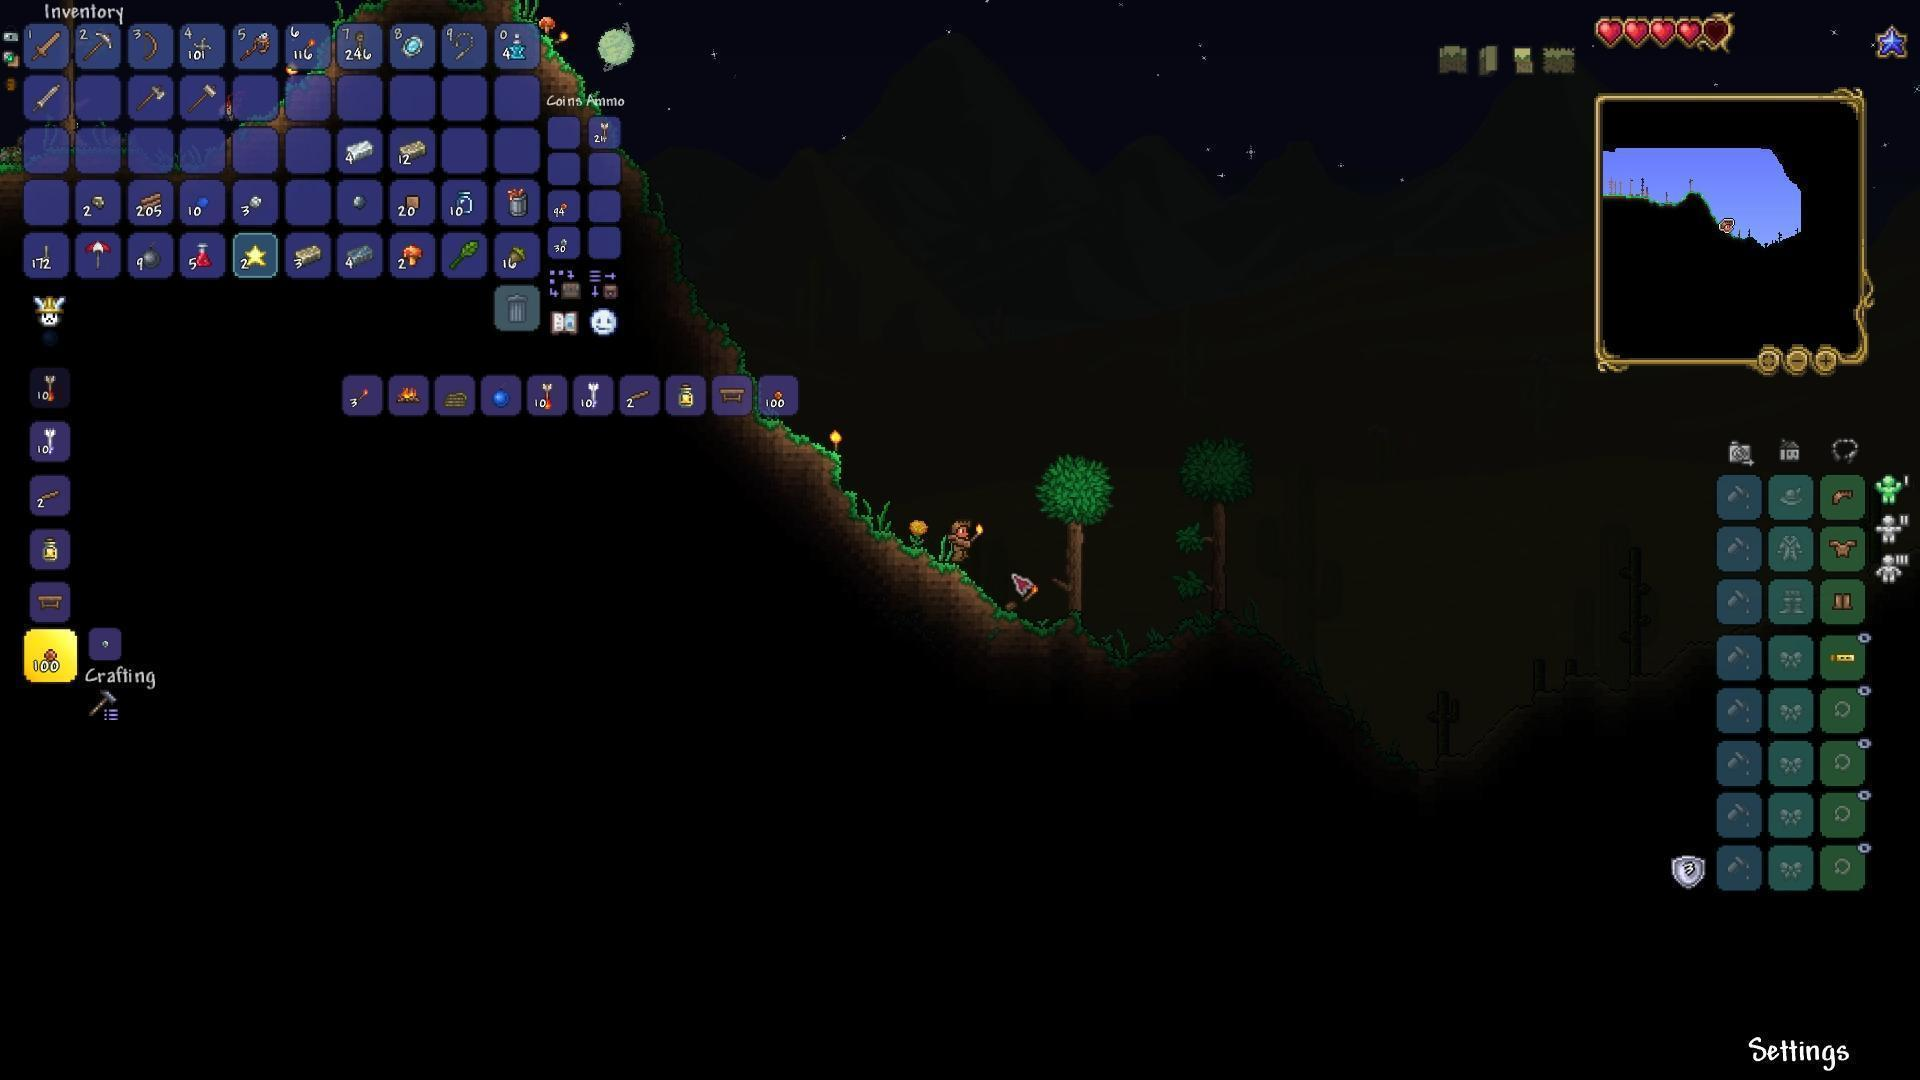arrow: (41, 371, 58, 402), (42, 425, 58, 454), (585, 378, 600, 407), (541, 378, 554, 407)
bomb: (140, 244, 162, 269)
bow: (140, 26, 160, 65)
breastplate: (1830, 539, 1857, 558)
gel: (193, 196, 214, 208)
knife: (40, 243, 50, 266)
pickaxe: (82, 29, 115, 63)
platform: (33, 484, 65, 501), (629, 386, 650, 402)
shuriken: (194, 33, 211, 55)
wood: (137, 190, 165, 210)
workbench: (32, 589, 65, 612), (716, 382, 746, 404)
